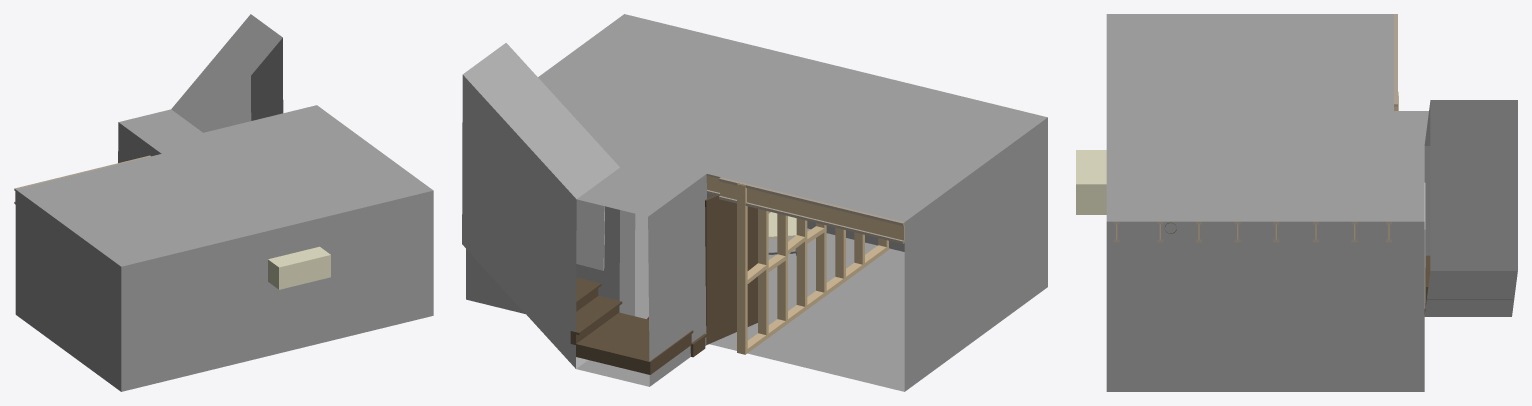
File: basement draft 05.fbx
The picture shows the model from 3 angles, left to right: view 1: azimuth 30°, elevation 25°; view 2: azimuth 150°, elevation 25°; view 3: azimuth 270°, elevation 25°; orthographic projection. The views are drawn at different scales.
Visible parts, largest first — view 1: Floor___Walls_x3_geo1, pCube64; view 2: Floor___Walls_x3_geo1, door_geo, pCube45, Stair_2_geo, bulletin_board_geo, vertical_beam_08_geo, bottom_beam_geo, vertical_beam_07_geo, stair_3_geo, vertical_beam_06_geo, vertical_beam_05_geo, vertical_beam_04_geo (+2 smaller); view 3: Floor___Walls_x3_geo1, pCube64.
Part boxes in pixels (x1,y1,x2,y2): Floor___Walls_x3_geo1: (15, 14, 433, 391); pCube64: (268, 246, 330, 289); Floor___Walls_x3_geo1: (462, 14, 1047, 391); door_geo: (705, 195, 757, 344); pCube45: (719, 177, 904, 243); Stair_2_geo: (576, 312, 693, 374); bulletin_board_geo: (576, 199, 604, 270); vertical_beam_08_geo: (737, 183, 747, 354); bottom_beam_geo: (745, 245, 888, 354); vertical_beam_07_geo: (758, 209, 768, 334); stair_3_geo: (570, 295, 622, 344); vertical_beam_06_geo: (777, 213, 787, 320); vertical_beam_05_geo: (796, 218, 807, 306); vertical_beam_04_geo: (816, 223, 826, 292); Floor___Walls_x3_geo1: (1106, 14, 1517, 391); pCube64: (1076, 150, 1106, 214).
Bounding box in the file's own units: 205 × 125 × 184.
